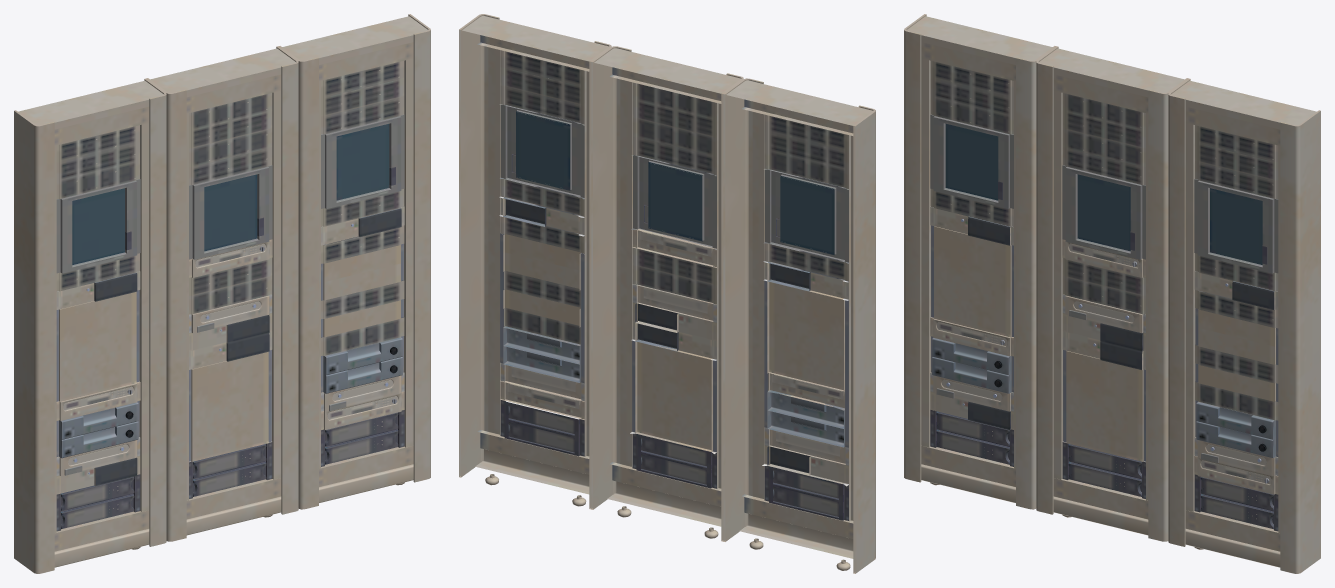
File: sm23_012_electricalpanel01a.fbx
The picture shows the model from 3 angles, left to right: view 1: azimuth 30°, elevation 25°; view 2: azimuth 150°, elevation 25°; view 3: azimuth 330°, elevation 25°; orthographic projection.
Parts seen in each view (by area): view 1: LOD_1_Group_0_Sub_1__sm23_012_ElectricalPanel01A_A_Mat__Env_; view 2: LOD_1_Group_0_Sub_1__sm23_012_ElectricalPanel01A_A_Mat__Env_; view 3: LOD_1_Group_0_Sub_1__sm23_012_ElectricalPanel01A_A_Mat__Env_.
Boxes of the visible parts, x1,y1,x2,y2 form: LOD_1_Group_0_Sub_1__sm23_012_ElectricalPanel01A_A_Mat__Env_: [14, 14, 430, 573]; LOD_1_Group_0_Sub_1__sm23_012_ElectricalPanel01A_A_Mat__Env_: [459, 14, 875, 573]; LOD_1_Group_0_Sub_1__sm23_012_ElectricalPanel01A_A_Mat__Env_: [904, 14, 1320, 573].
Size of the model in its own units: 1.96 by 2.16 by 0.1918.
